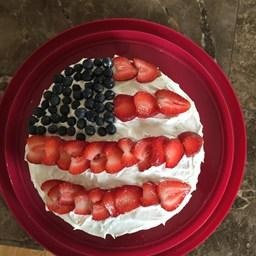background: (9, 22, 82, 95)
